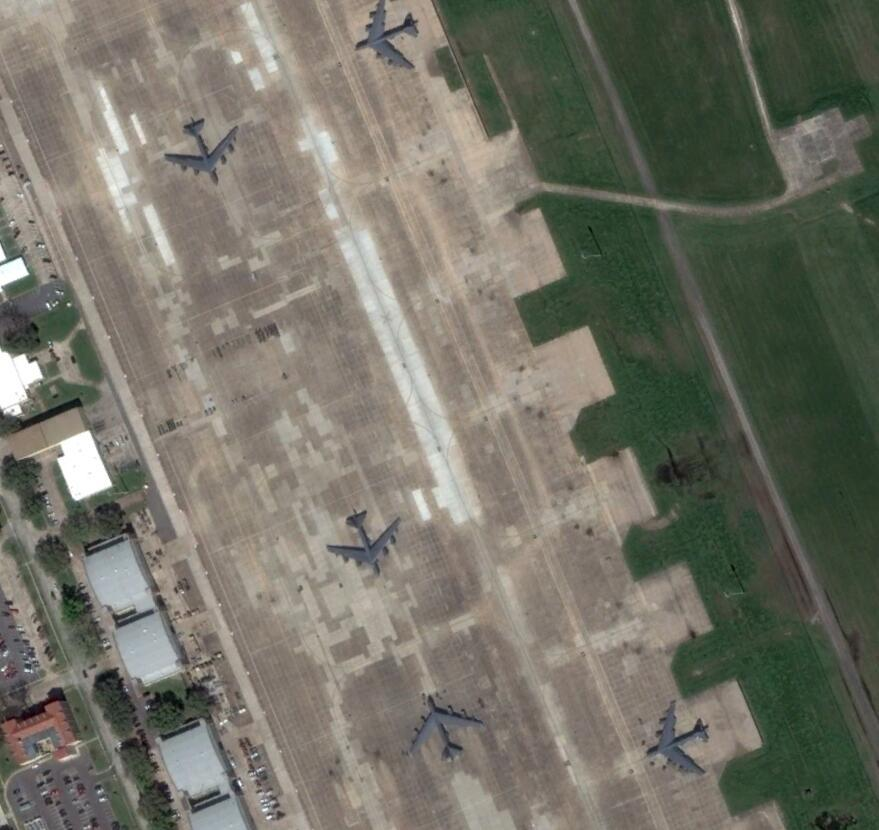A8: (323, 505, 406, 581), (639, 697, 712, 777), (160, 116, 242, 187), (403, 691, 484, 761), (349, 0, 421, 71)
